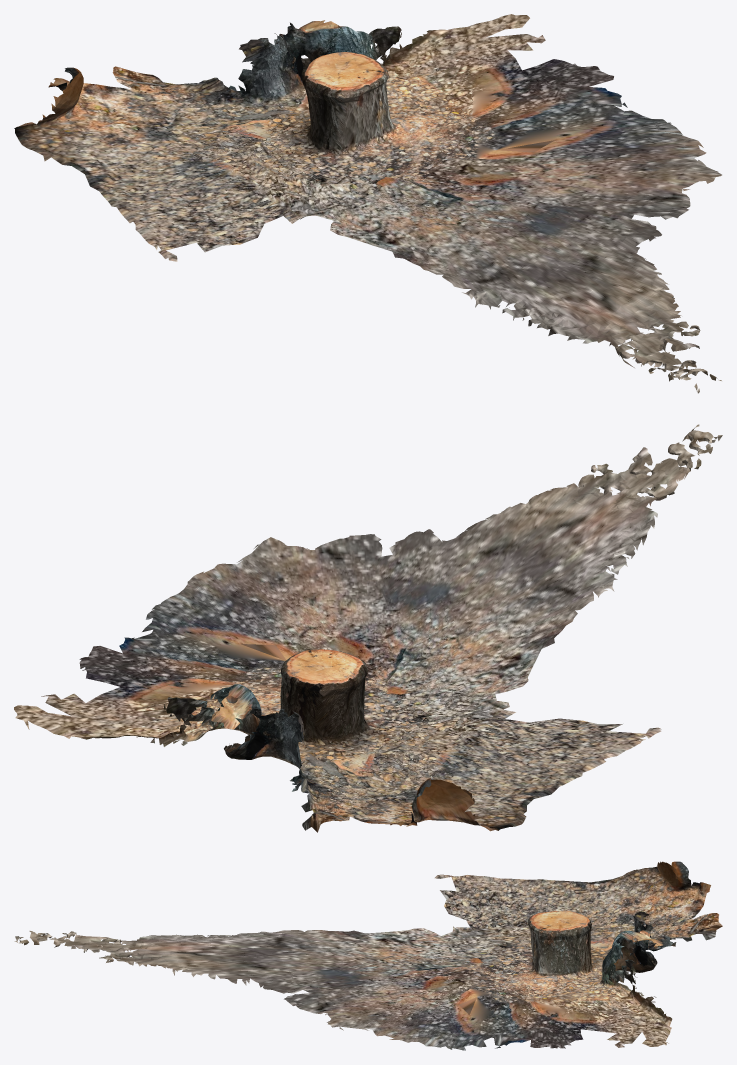
File: metascan_20230505-1155.obj
3 views of the same model, one above another, from view 1: azimuth 30°, elevation 25°; view 2: azimuth 150°, elevation 25°; view 3: azimuth 270°, elevation 25° (orthographic). The views are drawn at different scales.
Visible parts, largest first — view 1: mesh_0; view 2: mesh_0; view 3: mesh_0.
Part boxes in pixels (x1,y1,x2,y2): mesh_0: [14, 14, 721, 393]; mesh_0: [14, 424, 722, 832]; mesh_0: [14, 861, 722, 1050].
Bounding box in the file's own units: 3.46 × 0.4676 × 5.76.
1 material, 1 textured.
